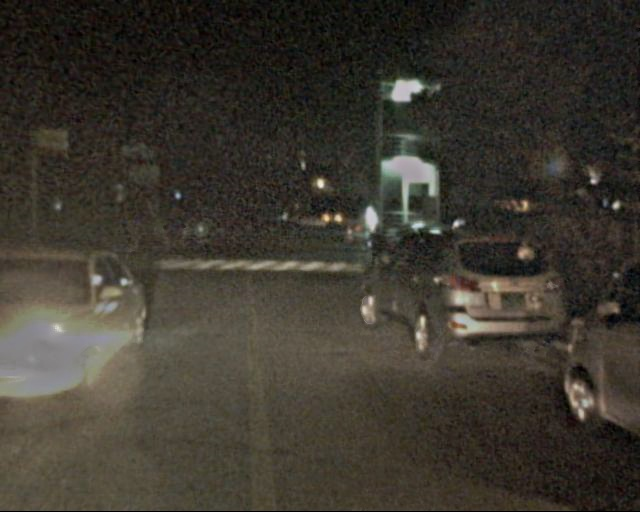person: (363, 225, 388, 286), (120, 217, 141, 269), (172, 219, 185, 254)
